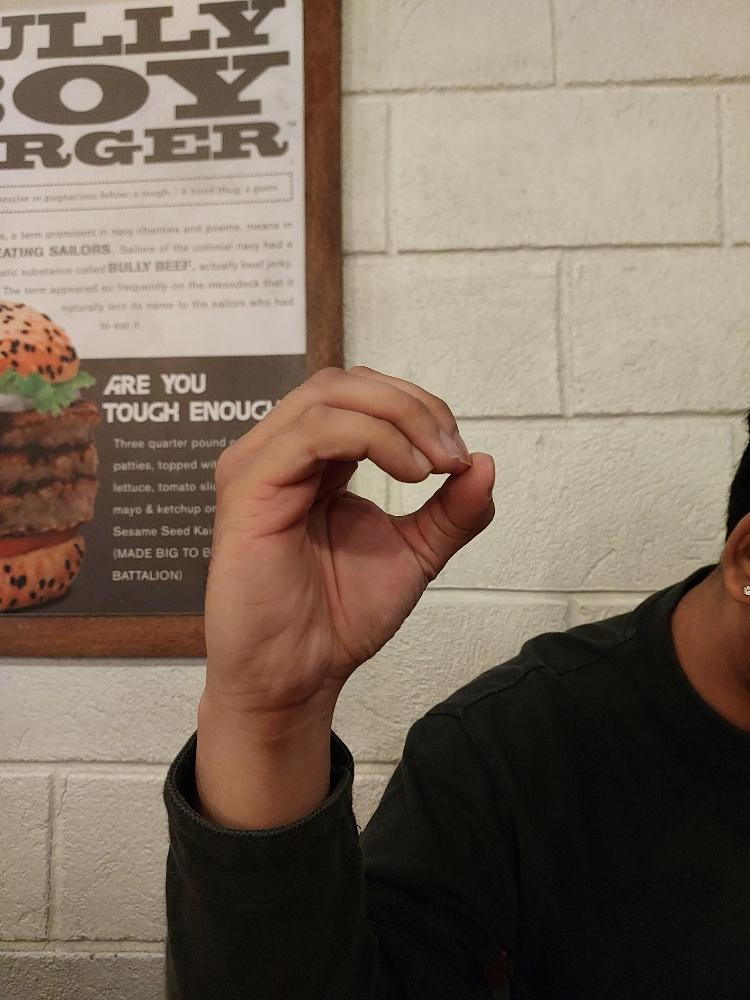o: (201, 361, 499, 715)
